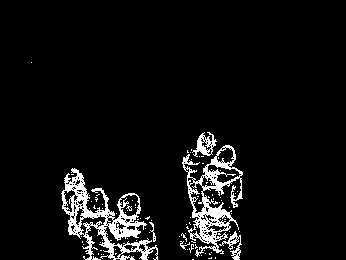person: (180, 123, 214, 213), (217, 139, 243, 223)
